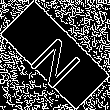N_NE: (23, 23, 87, 87)
